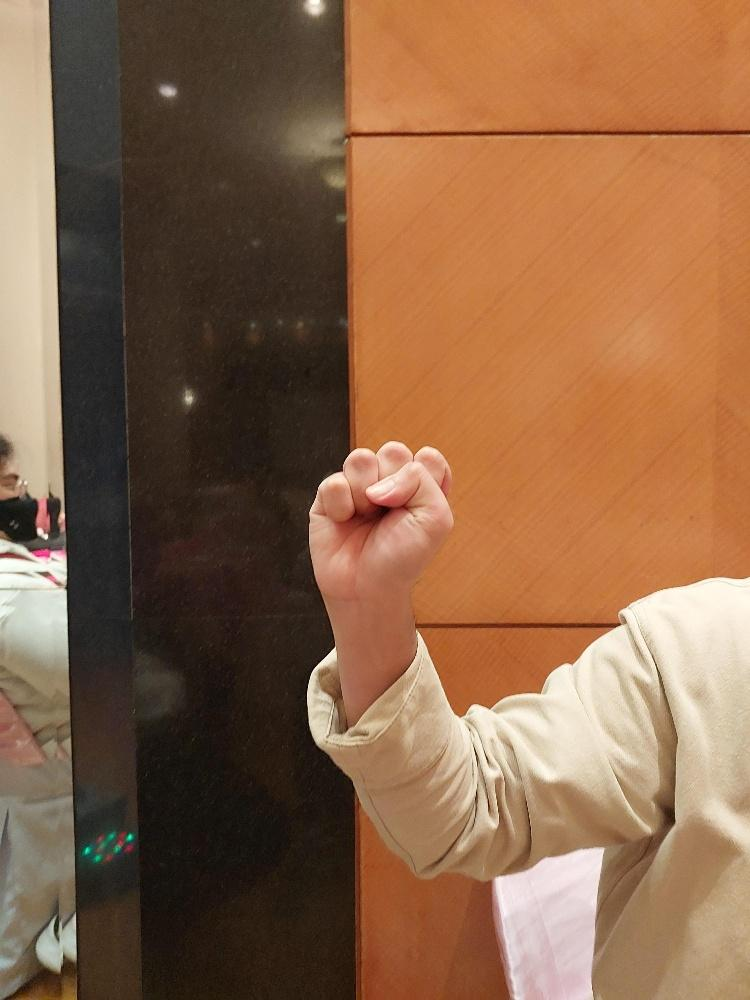s: (306, 439, 456, 604)
